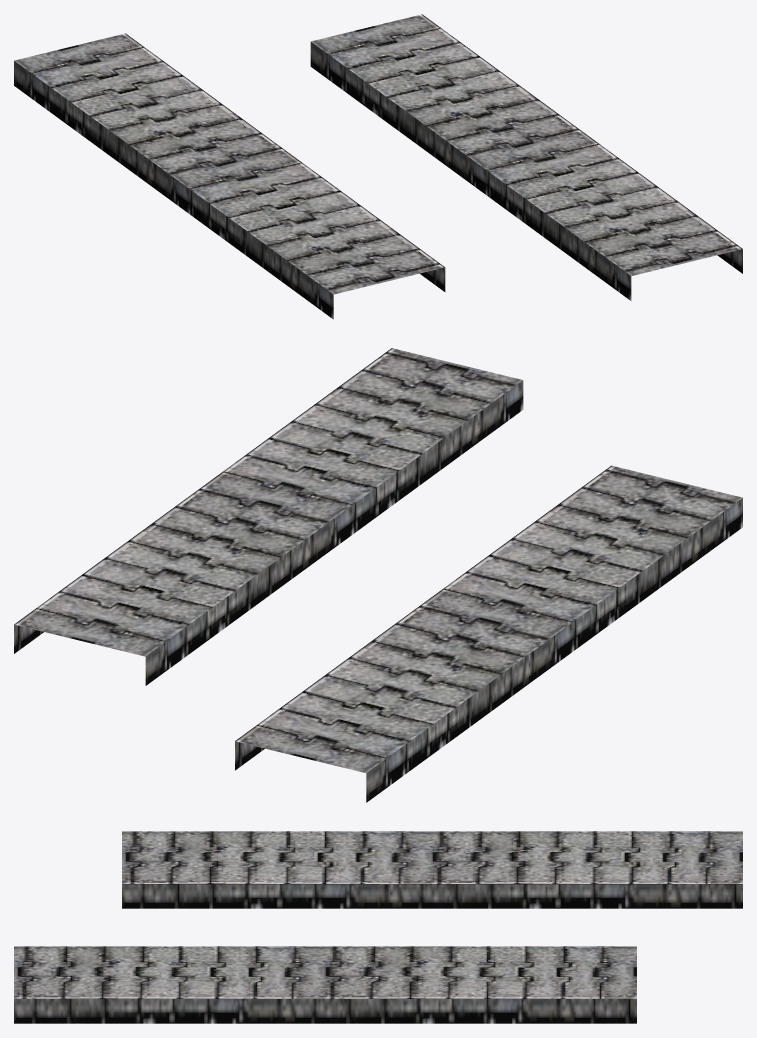
Rendered from USA - Base Infrastructure - Supply Center - ABSupplyCT_A9.glb.
The picture shows the model from 3 angles, top to bottom: view 1: azimuth 30°, elevation 25°; view 2: azimuth 150°, elevation 25°; view 3: azimuth 270°, elevation 25°; orthographic projection. The views are drawn at different scales.
Parts seen in each view (by area): view 1: BELT01, BELT02; view 2: BELT01, BELT02; view 3: BELT01, BELT02.
Boxes of the visible parts, left/top/right/bottom form: BELT01: left=310, top=14, right=742, bottom=300; BELT02: left=14, top=33, right=445, bottom=319; BELT01: left=14, top=348, right=523, bottom=685; BELT02: left=235, top=465, right=742, bottom=802; BELT01: left=14, top=946, right=636, bottom=1023; BELT02: left=122, top=831, right=742, bottom=908.
Bounding box in the file's own units: 24.34 × 1.65 × 44.72.
2 materials, 2 textured.
